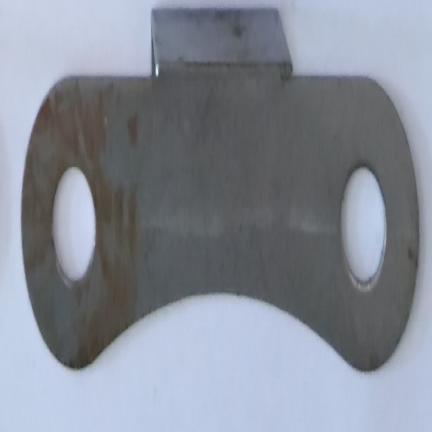besi_tidak_karat: (21, 9, 419, 370)
